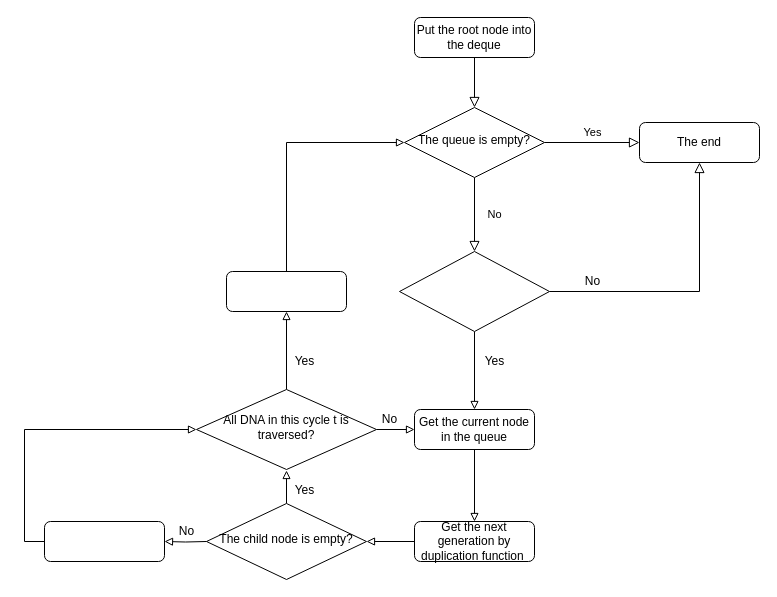
The diagram is 777 pixels wide and 597 high, and some of its shapes have lost their labels. Each missing label, with the centre of its shape:
Add the node into the queue: pixel 104 541
Go to the next cycle: pixel 286 291
The cycle t satisfy the limitation?: pixel 474 291
